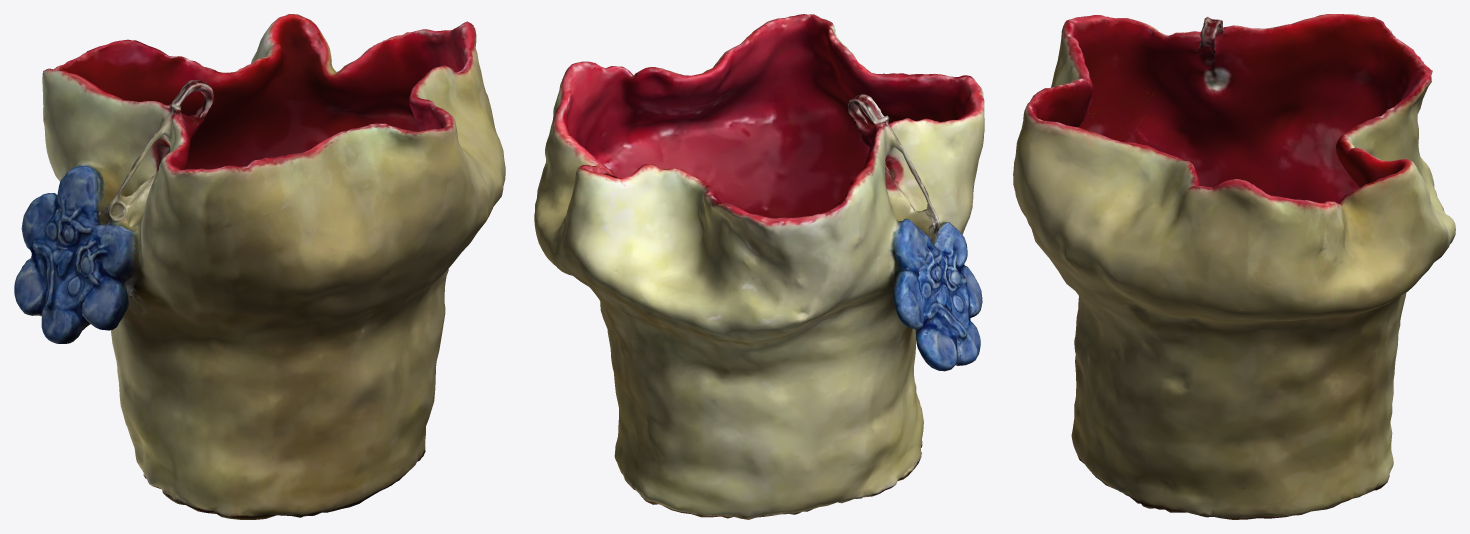
Rendered from jarron-flor-triste-denim.glb.
3 views of the same model, side by side, from view 1: azimuth 30°, elevation 25°; view 2: azimuth 150°, elevation 25°; view 3: azimuth 270°, elevation 25° (orthographic). The views are drawn at different scales.
Parts seen in each view (by area): view 1: submesh; view 2: submesh; view 3: submesh.
Boxes of the visible parts, box(x1,y1,x2,y2) form: submesh: box(14, 14, 505, 519); submesh: box(534, 14, 984, 519); submesh: box(1013, 14, 1455, 519).
Size of the model in its own units: 0.2087 by 0.1843 by 0.1847.
Materials: 1 (1 with a texture image).
